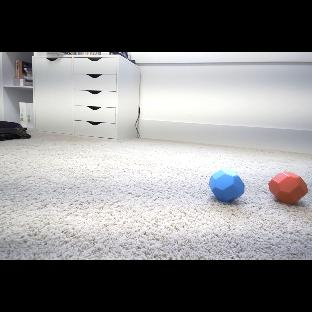V5_BLUE: (209, 169, 245, 203)
V5_RED: (268, 172, 308, 204)
